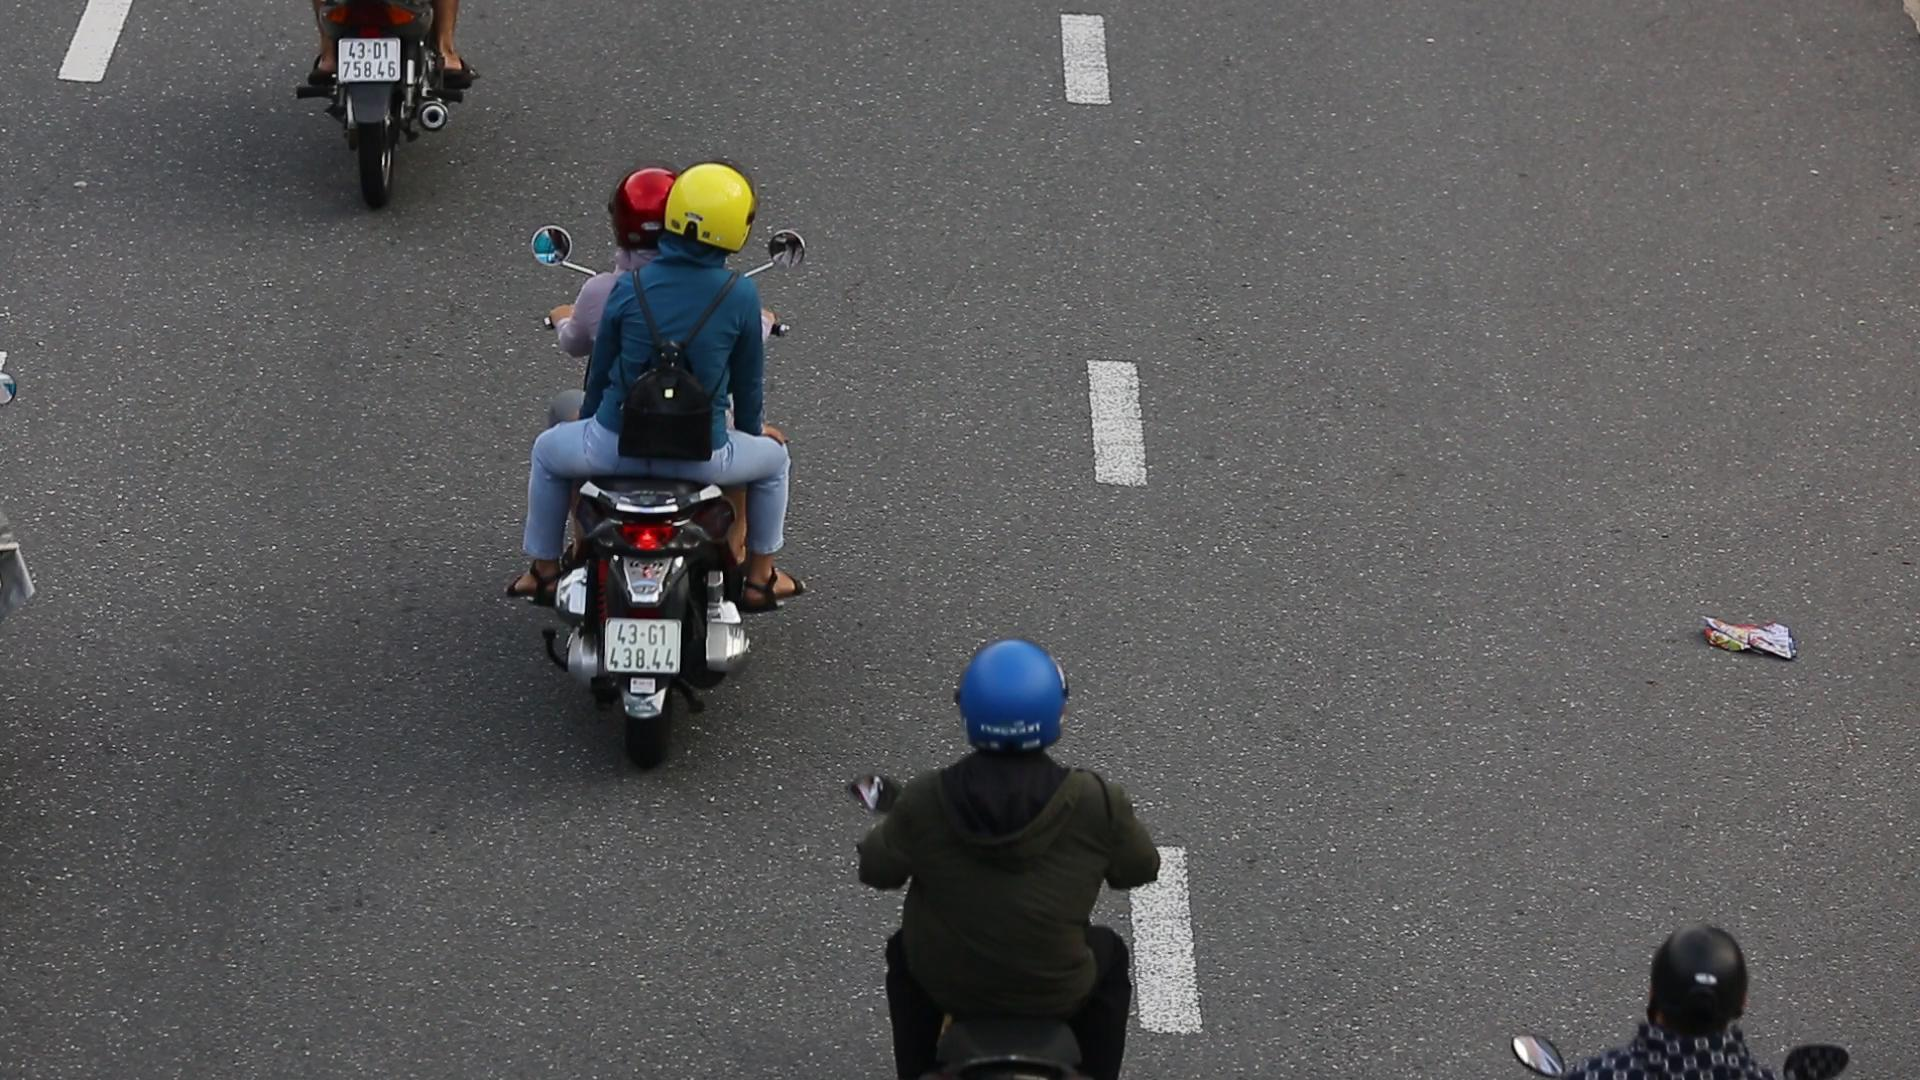motobike: (502, 140, 807, 793)
